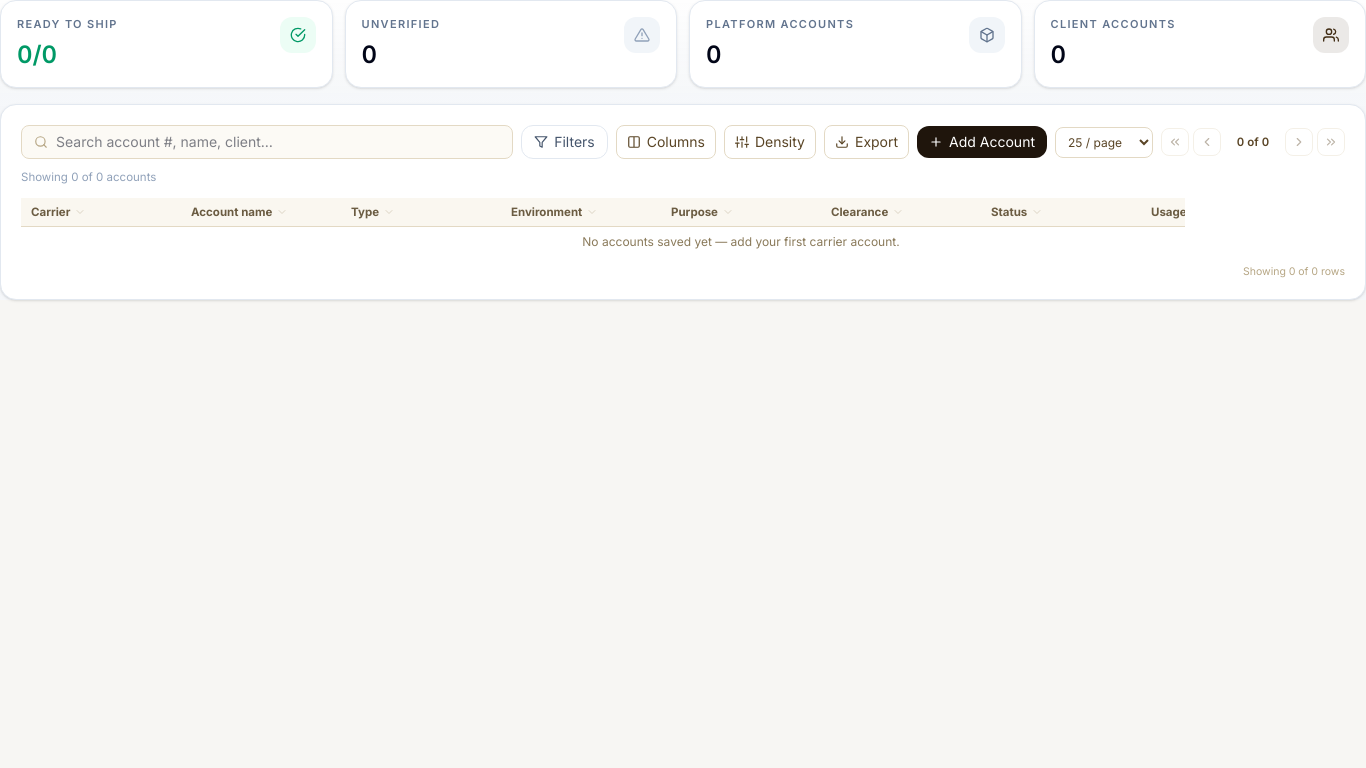
Test: CarrierConnections · USPS drawer · USPS_DIRECT mode › renders USPS Direct fields only; Stamps.com credential inputs are gone
Click the button "Add Account".
click(982, 142)  # box [917,126,1047,158]
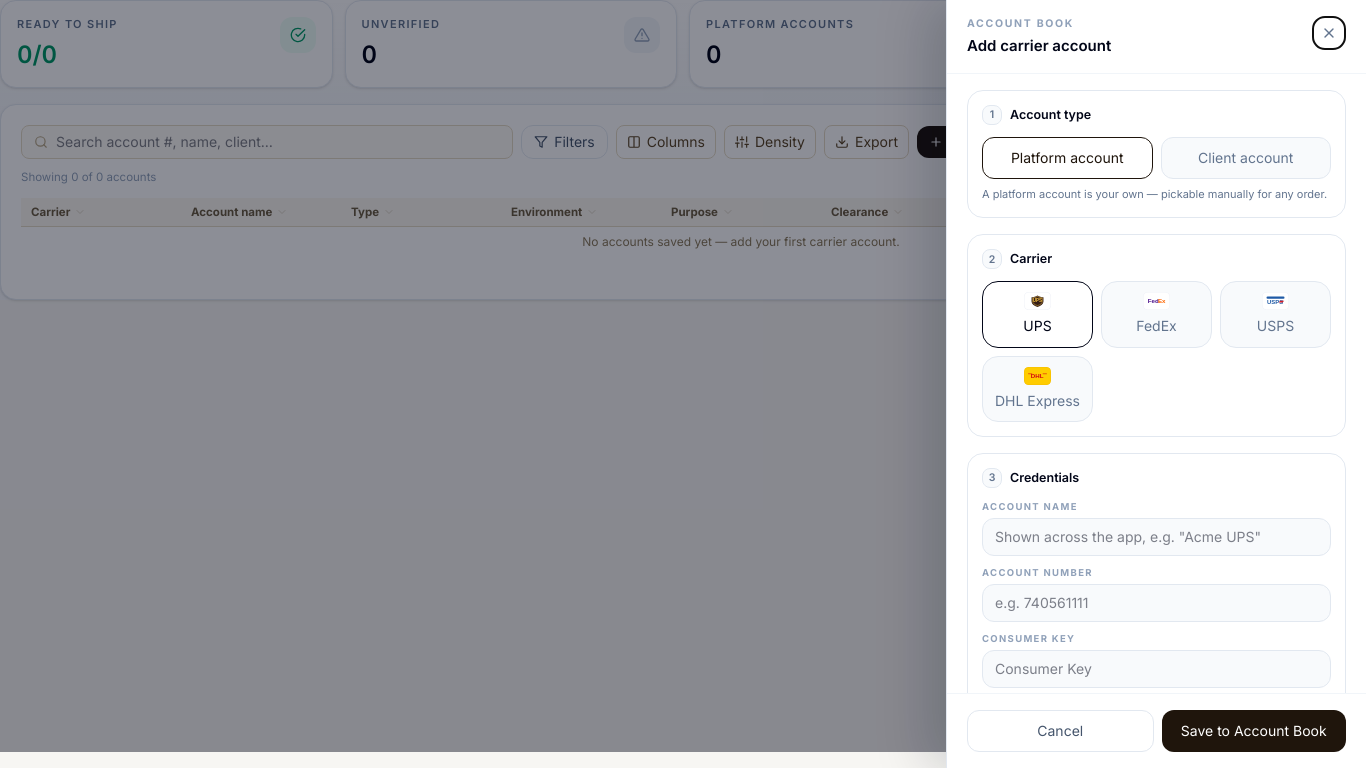
Click the radio button labelled "USPS".
click(1276, 314)  # box [1220,281,1331,348]
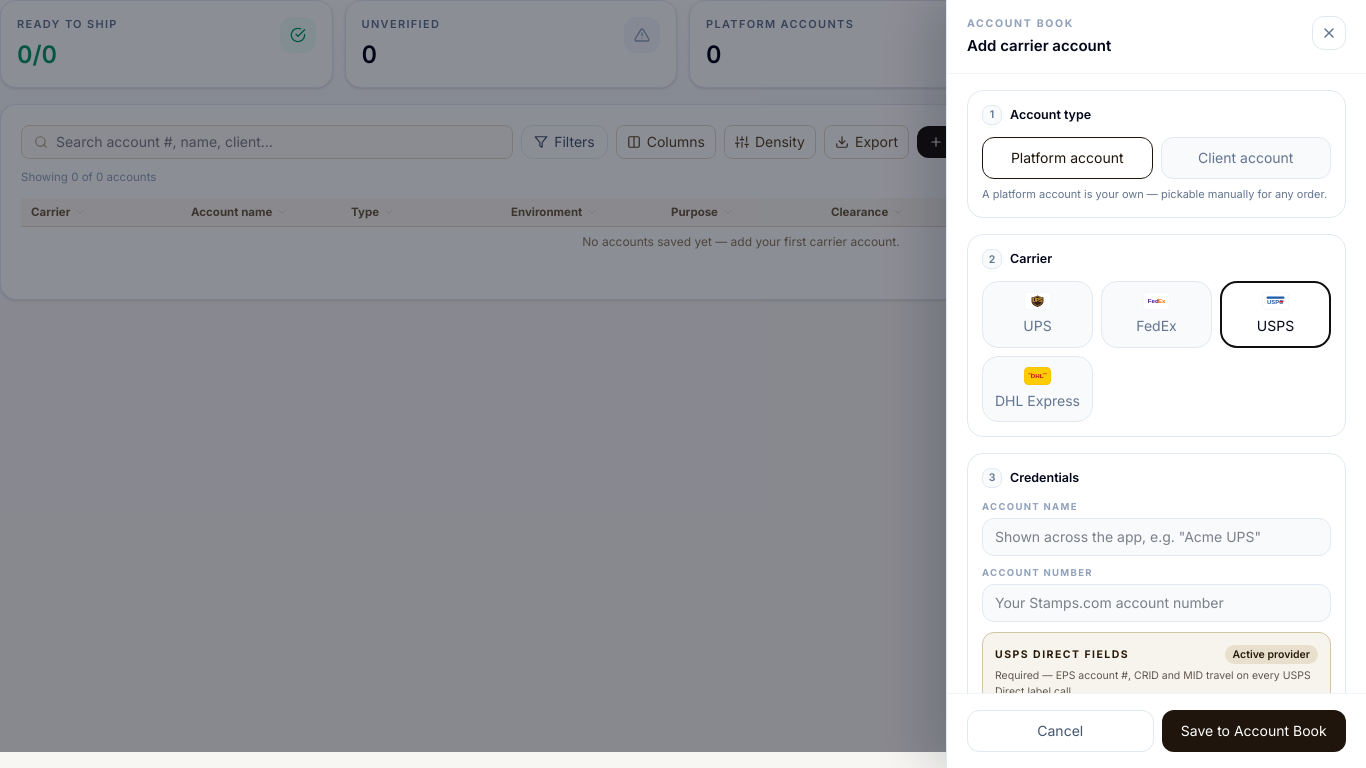
Expected: the text "USPS Direct fields" is shown, [995,647,1129,662]
